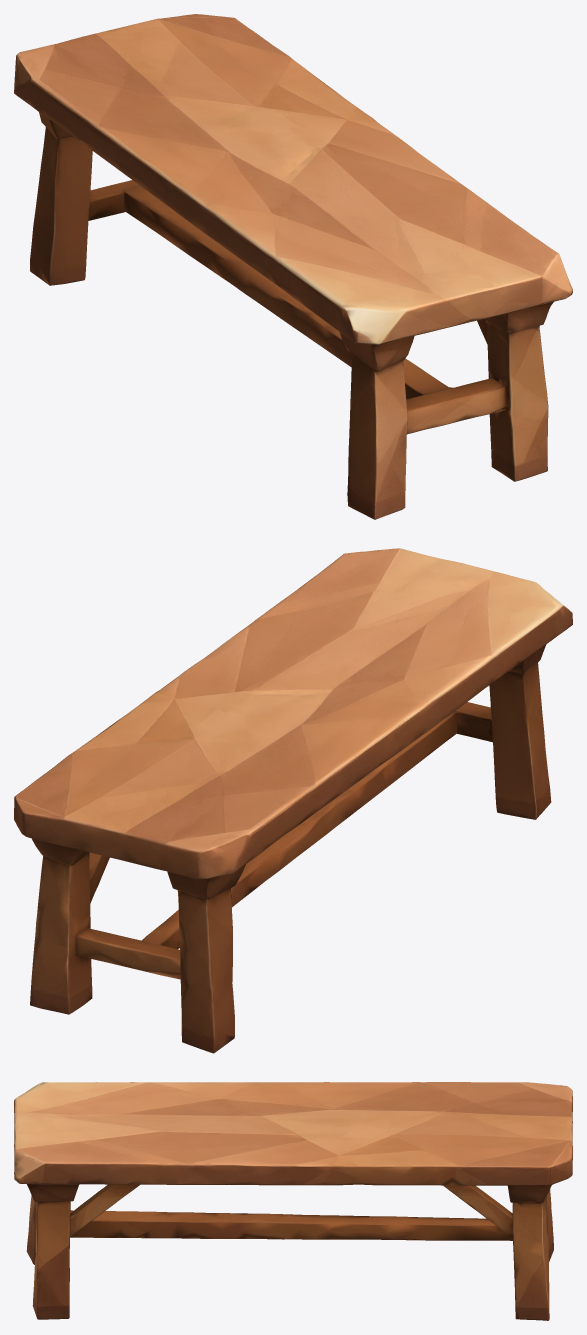
Rendered from mesa_madera.glb.
The picture shows the model from 3 angles, top to bottom: view 1: azimuth 30°, elevation 25°; view 2: azimuth 150°, elevation 25°; view 3: azimuth 270°, elevation 25°; orthographic projection. The views are drawn at different scales.
Visible parts, largest first — view 1: tripo_node_64ca8a5b-154e-42c9-84de-2d80f942c815; view 2: tripo_node_64ca8a5b-154e-42c9-84de-2d80f942c815; view 3: tripo_node_64ca8a5b-154e-42c9-84de-2d80f942c815.
Part boxes in pixels (bbox=[...]): tripo_node_64ca8a5b-154e-42c9-84de-2d80f942c815: bbox=[14, 14, 572, 519]; tripo_node_64ca8a5b-154e-42c9-84de-2d80f942c815: bbox=[14, 548, 572, 1053]; tripo_node_64ca8a5b-154e-42c9-84de-2d80f942c815: bbox=[14, 1082, 572, 1320].
Bounding box in the file's own units: 0.3529 × 0.3239 × 1.
1 material, 1 textured.
